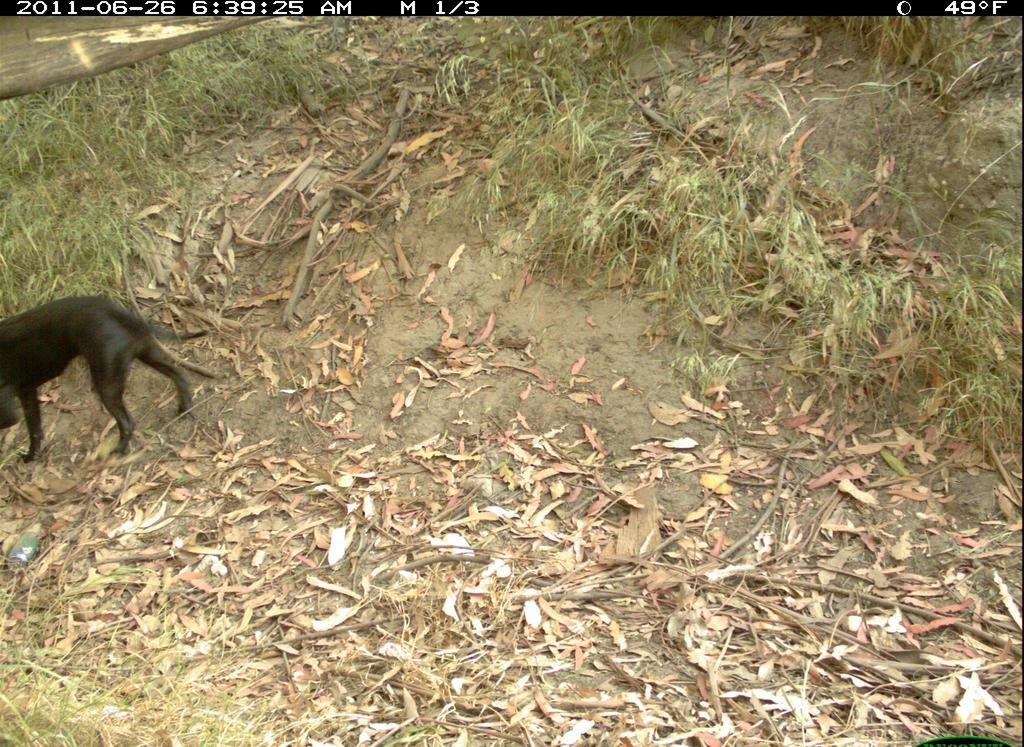dog: (1, 292, 196, 466)
